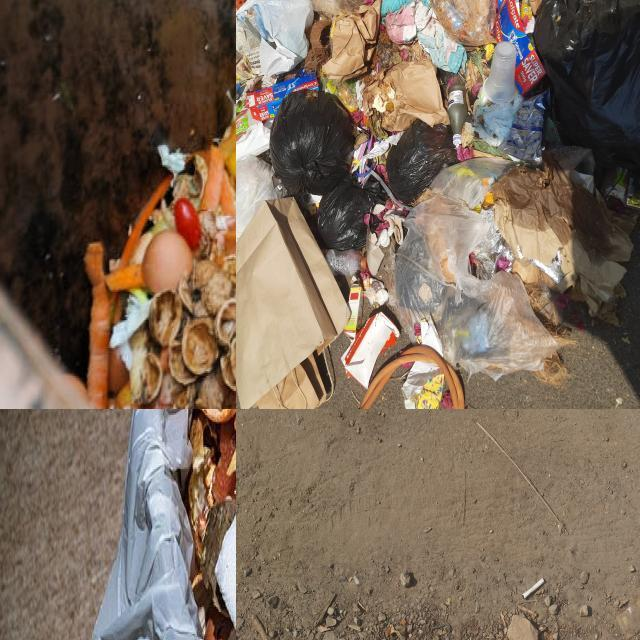Background: (236, 409, 640, 640)
Cig_bud: (522, 577, 545, 600)
Disposable: (482, 42, 517, 103), (448, 84, 467, 135)
Garbage: (236, 0, 640, 409), (85, 108, 236, 409), (174, 409, 236, 640)
Nylog_sting: (365, 159, 412, 211)
Plastic_Bag: (395, 157, 558, 379), (534, 0, 640, 191), (270, 91, 355, 196), (386, 119, 458, 204), (240, 0, 313, 77), (318, 173, 388, 250), (318, 173, 382, 250), (236, 156, 280, 243), (431, 0, 496, 47), (473, 89, 523, 147), (549, 145, 591, 170), (436, 68, 456, 101), (369, 215, 380, 232)
Plastic_Straw: (368, 134, 373, 154), (361, 177, 364, 184), (363, 168, 366, 173), (366, 159, 368, 165)
Plastic_bottle: (448, 84, 468, 149), (323, 250, 368, 276)
Plastic_wraper: (500, 91, 550, 163), (616, 596, 640, 639), (520, 0, 536, 33), (544, 117, 562, 145), (625, 178, 640, 210)
